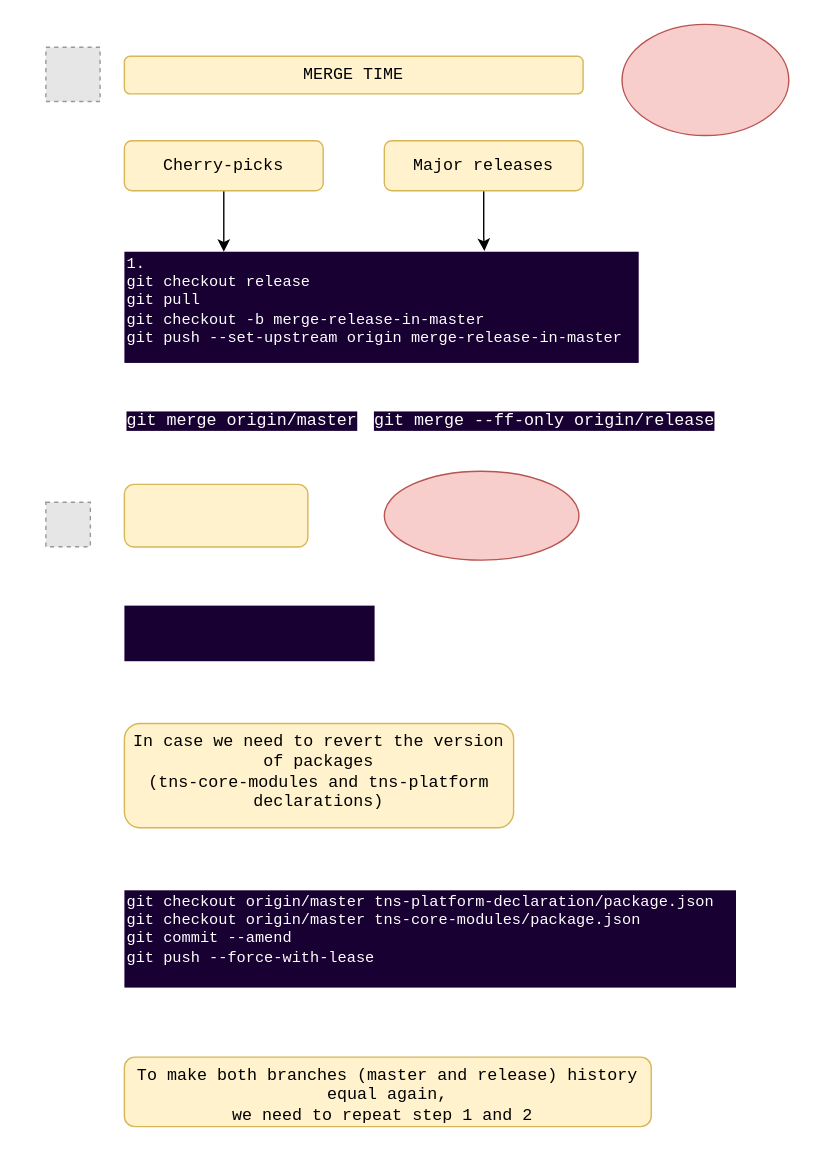
This 813x1151 diagram has some shape labels left out. Grey dashed boxes stand in for pictures. The shapes that lost their labels are listed below. From the top down, each one's centre as x and y in pixels, then its label:
At pixel 705 79: "We need to keep both branches with the same history".
At pixel 215 515: "Resolve conflicts".
At pixel 481 515: "Using default merge message".
At pixel 249 633: "2. git add (resolved files) git commit git push".
